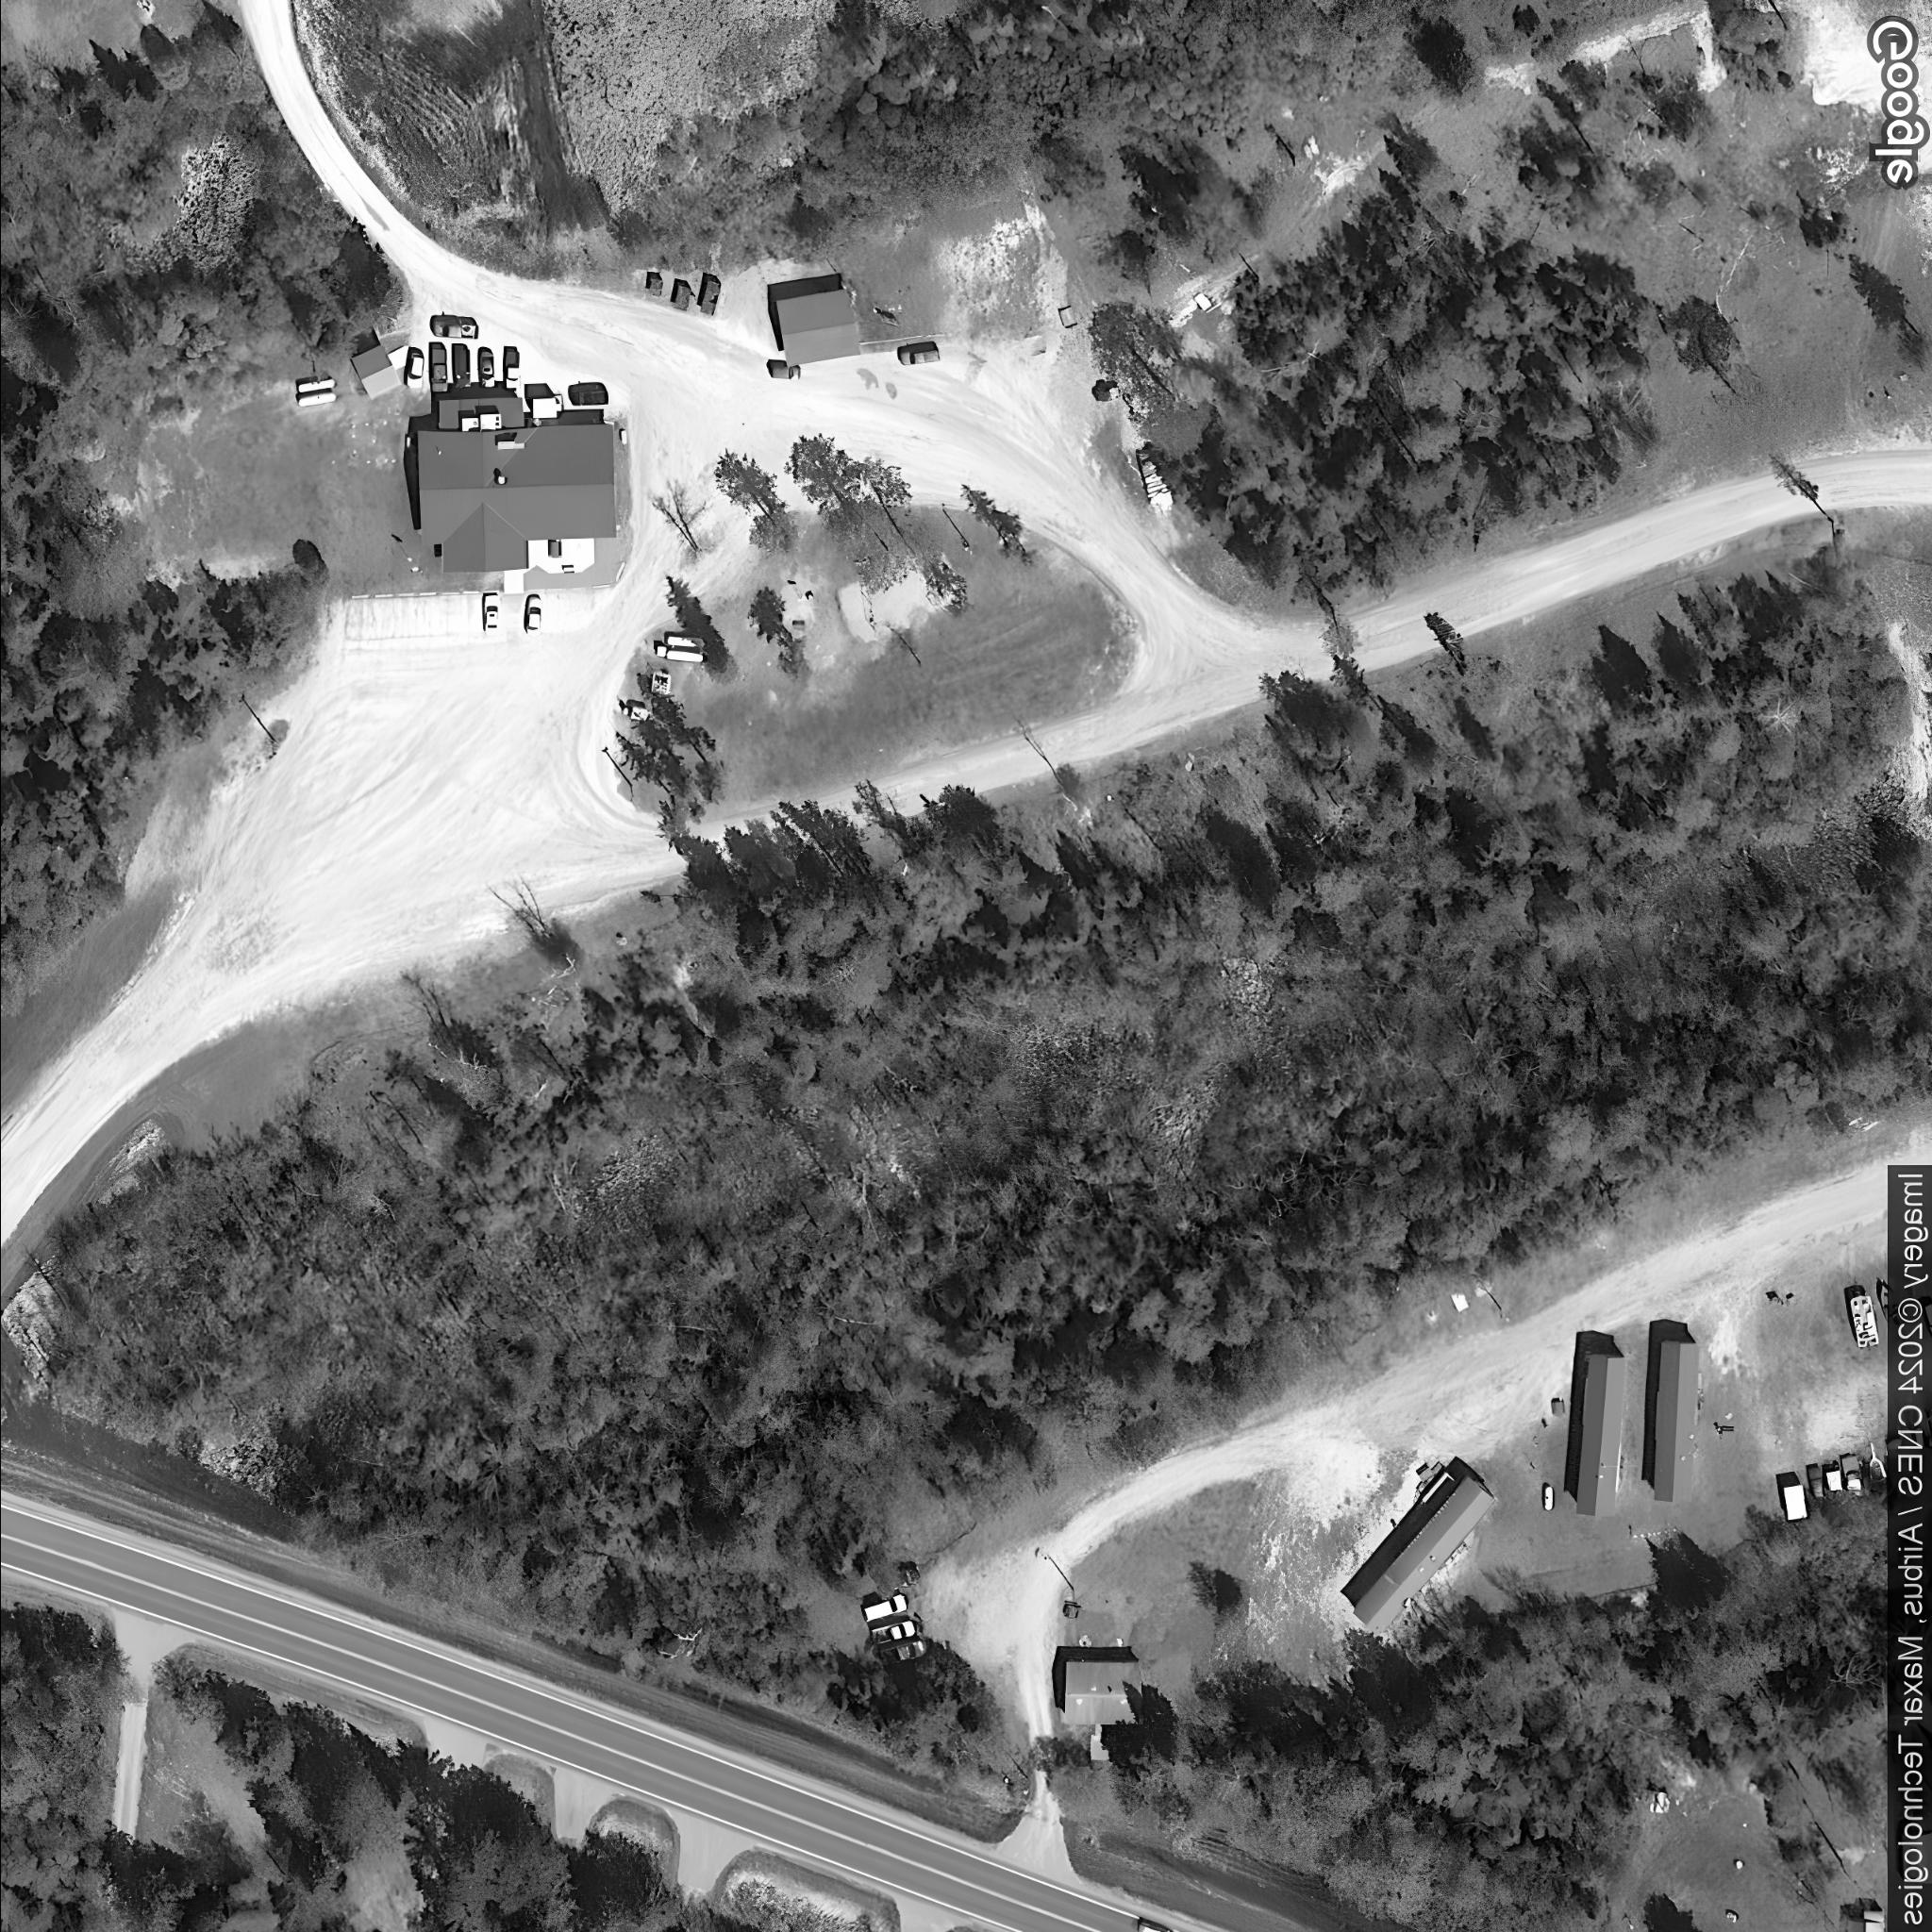Garage: (773, 285, 863, 372), (349, 343, 400, 402)
House: (414, 395, 617, 573), (1063, 1660, 1141, 1727), (1844, 1911, 1886, 1932)
Propane: (294, 375, 336, 395), (294, 391, 336, 407), (665, 649, 704, 665), (667, 633, 706, 649), (1541, 1483, 1553, 1511)
Trailer: (1348, 1472, 1497, 1637), (1576, 1352, 1624, 1518), (1652, 1339, 1698, 1500)
